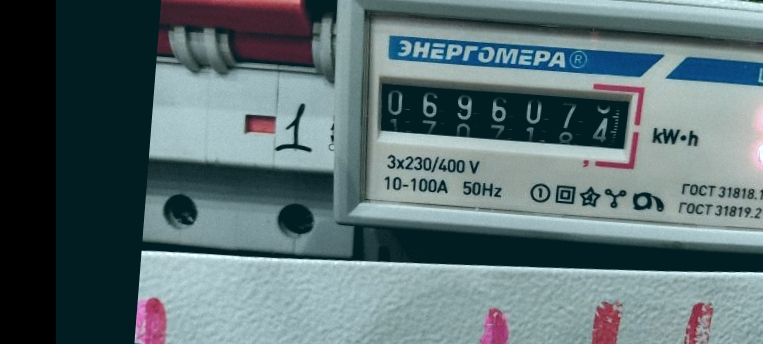0: (523, 94, 545, 125), (385, 86, 405, 115)
4: (591, 114, 609, 143)
6: (488, 93, 510, 124), (420, 88, 441, 117)
7: (559, 99, 578, 130)
9: (454, 92, 474, 121)
screen: (360, 57, 651, 168)
